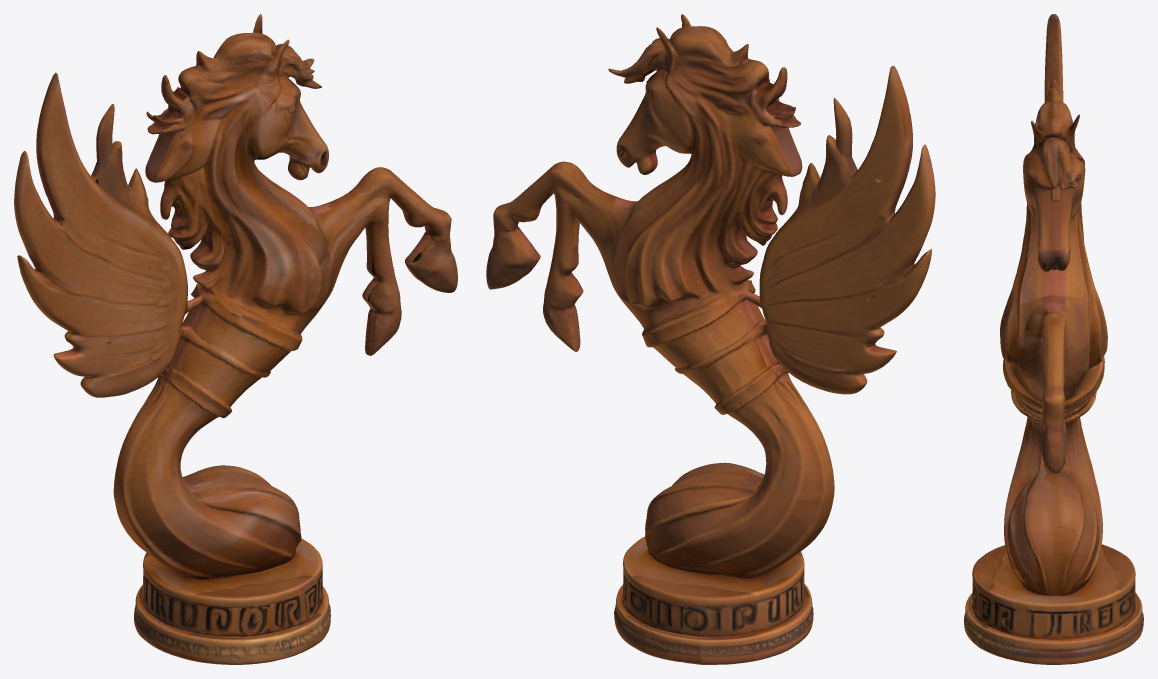
File: VAULTBOUND.glb
3 views of the same model, side by side, from view 1: azimuth 30°, elevation 25°; view 2: azimuth 150°, elevation 25°; view 3: azimuth 270°, elevation 25° (orthographic). The views are drawn at different scales.
Bounding box in the file's own units: 1.55 × 2 × 0.6073.
Materials: 1 (1 with a texture image).
